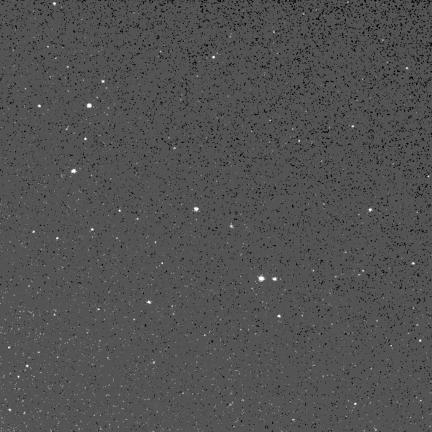blob: (259, 275, 265, 281), (87, 103, 92, 107), (71, 169, 76, 173), (194, 207, 199, 211), (369, 208, 373, 212), (91, 228, 95, 232), (273, 277, 277, 281), (102, 80, 106, 84), (147, 301, 151, 304), (38, 105, 42, 108), (419, 339, 422, 343), (53, 3, 57, 6), (84, 138, 88, 141), (412, 262, 416, 265), (119, 209, 122, 213), (278, 315, 281, 318), (213, 56, 216, 59), (354, 403, 357, 406)
